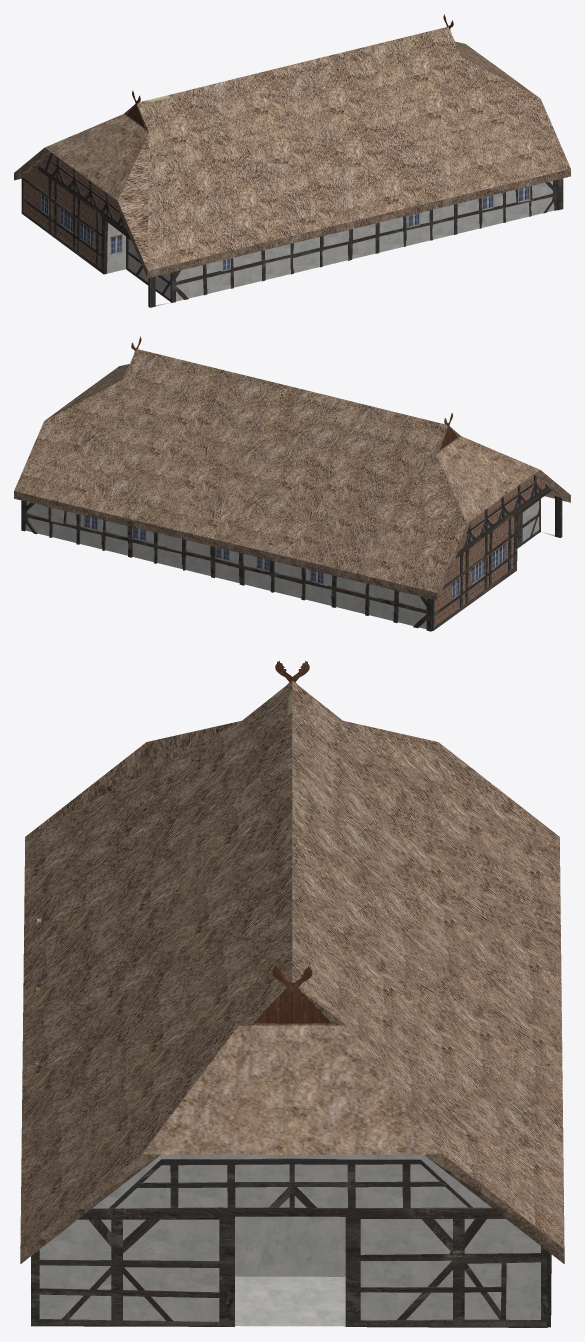
Rendered from mecklenburg_peasant_house_merged.obj.
The picture shows the model from 3 angles, top to bottom: view 1: azimuth 30°, elevation 25°; view 2: azimuth 150°, elevation 25°; view 3: azimuth 270°, elevation 25°; orthographic projection. The views are drawn at different scales.
Visible parts, largest first — view 1: HouseRoof, HouseBody, FachwerkBalken, HouseBodyBricks, HouseWindows; view 2: HouseRoof, HouseBody, FachwerkBalken, HouseBodyBricks, HouseWindows; view 3: HouseRoof, HouseBody, FachwerkBalken.
Boxes of the visible parts, bbox=[...] form: HouseRoof: bbox=[14, 14, 570, 278]; HouseBody: bbox=[107, 181, 554, 306]; FachwerkBalken: bbox=[21, 152, 563, 307]; HouseBodyBricks: bbox=[23, 154, 125, 266]; HouseWindows: bbox=[41, 186, 530, 271]; HouseRoof: bbox=[14, 336, 570, 600]; HouseBody: bbox=[25, 500, 554, 629]; FachwerkBalken: bbox=[21, 475, 562, 631]; HouseBodyBricks: bbox=[434, 475, 545, 625]; HouseWindows: bbox=[83, 515, 505, 599]; HouseRoof: bbox=[20, 660, 564, 1263]; HouseBody: bbox=[39, 1154, 540, 1326]; FachwerkBalken: bbox=[31, 1158, 551, 1327].
Size of the model in its own units: 24.57 by 8.74 by 13.69.
Materials: 5 (5 with a texture image).
